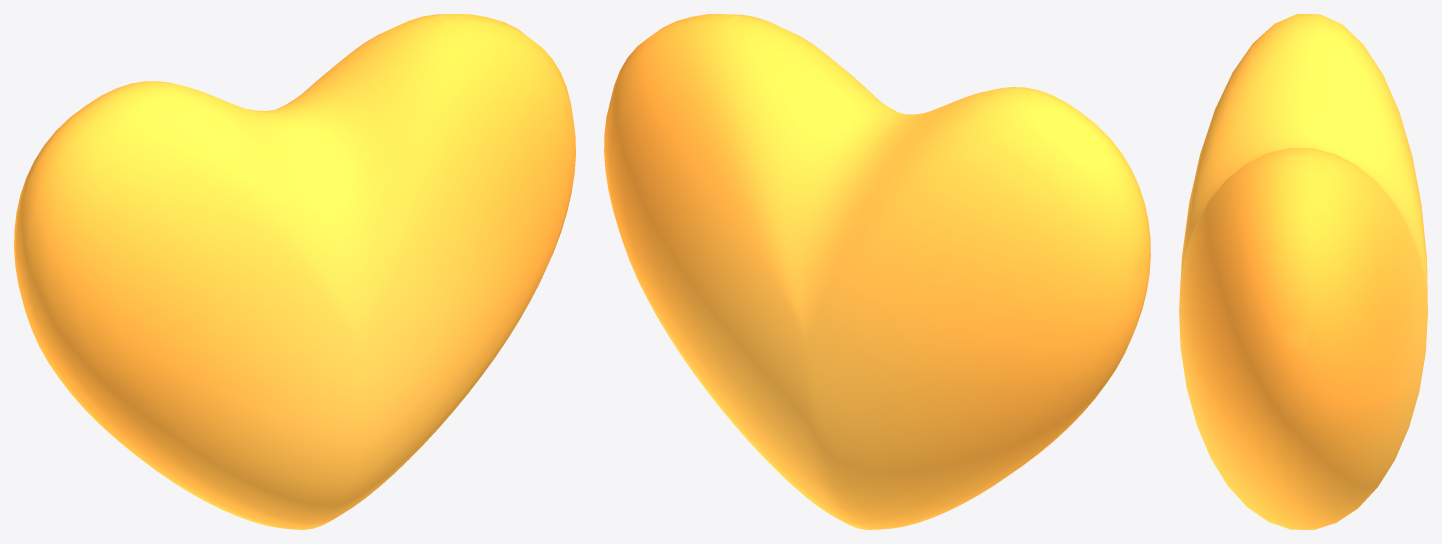
File: heart-honey-gold-v14.glb
3 views of the same model, side by side, from view 1: azimuth 30°, elevation 25°; view 2: azimuth 150°, elevation 25°; view 3: azimuth 270°, elevation 25° (orthographic). The views are drawn at different scales.
Parts seen in each view (by area): view 1: Heart_Glass; view 2: Heart_Glass; view 3: Heart_Glass.
Boxes of the visible parts, x1,y1,x2,y2 form: Heart_Glass: (14,14,575,529); Heart_Glass: (604,14,1150,529); Heart_Glass: (1179,14,1427,529).
Bounding box in the file's own units: 0.0801 × 0.0665 × 0.0347.
Materials: 1 (1 with a texture image).
